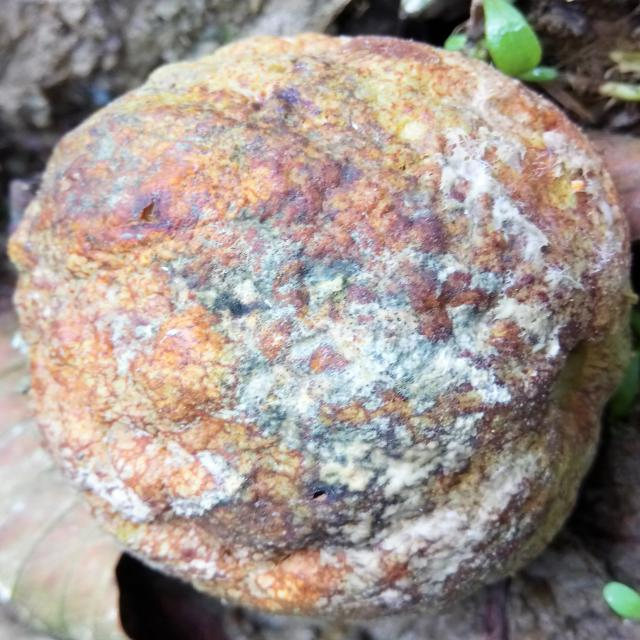Phytopthora: (10, 35, 632, 618)
